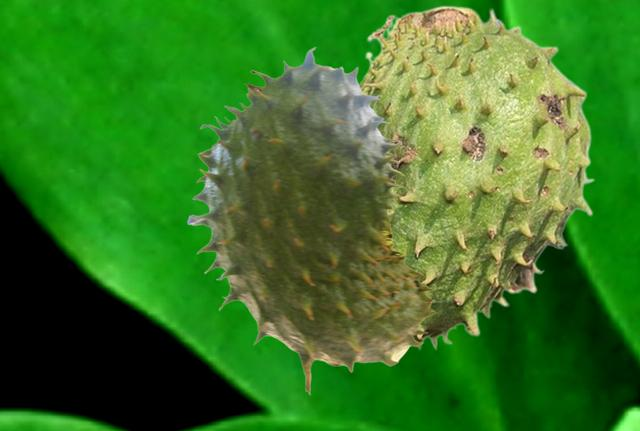guyabano: (187, 47, 435, 394), (359, 5, 594, 351)
